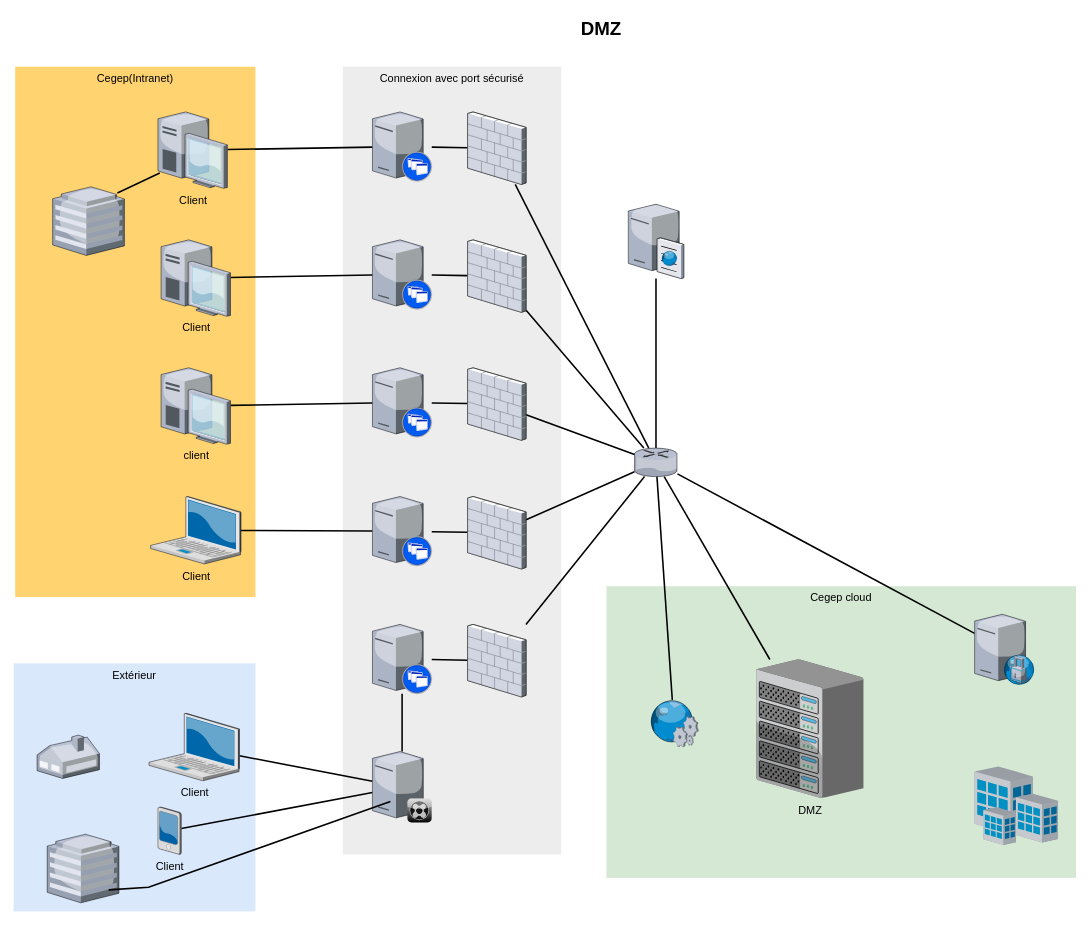
This 1089x934 diagram has some shape labels left out. Here are the shapes that lost their labels. From the top down, the centre of each, then its label:
the point at 88,220: BD MSSQL
the point at 655,240: Web Server
the point at 1004,649: Secure Server
the point at 673,723: Web service
the point at 83,868: BD MYSQL
